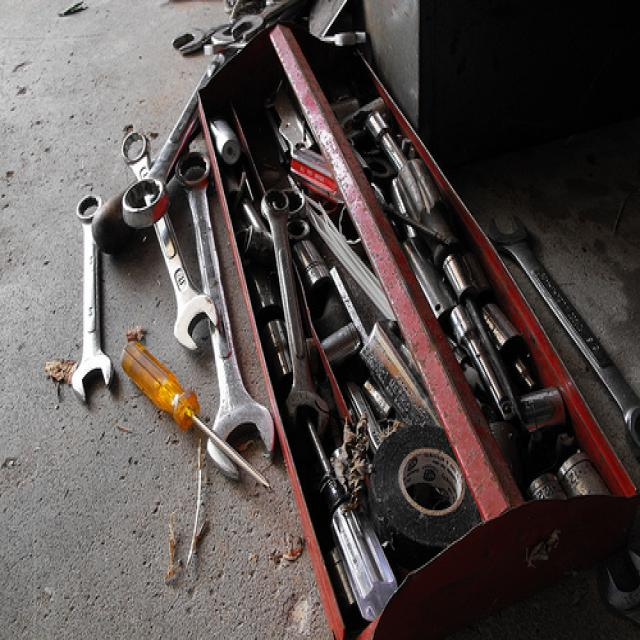screw_driver: (118, 333, 271, 490)
spanner: (177, 174, 275, 478), (70, 196, 119, 408)
tool_box: (61, 0, 640, 640)
